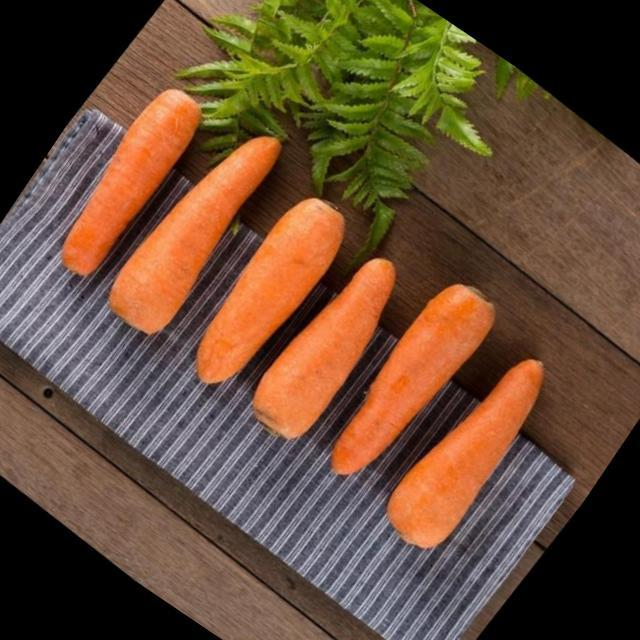carrot: (110, 136, 281, 334), (332, 285, 495, 474), (388, 360, 542, 547), (198, 199, 344, 382), (62, 89, 201, 275), (252, 259, 395, 438)
